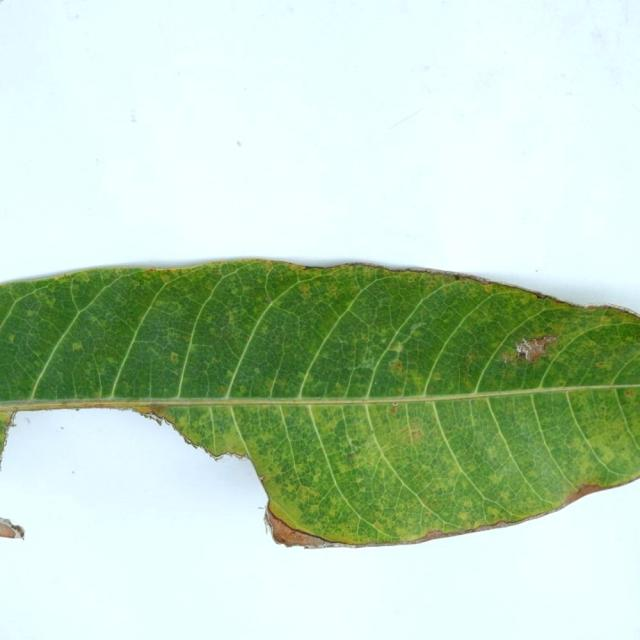Mango: (0, 259, 639, 546)
Powdery_Mildew: (0, 296, 50, 349), (508, 334, 557, 364), (337, 363, 381, 392), (145, 299, 188, 325), (457, 345, 486, 383), (399, 422, 423, 441), (342, 438, 366, 456), (145, 403, 168, 420), (408, 321, 427, 336), (297, 485, 313, 500), (167, 329, 186, 341), (71, 338, 84, 355), (299, 372, 313, 387), (148, 413, 164, 425), (390, 360, 404, 373), (500, 352, 515, 364), (156, 272, 173, 282), (490, 471, 504, 483), (49, 272, 70, 280), (388, 342, 403, 353), (372, 519, 385, 531), (297, 283, 311, 294), (75, 273, 90, 283), (264, 379, 276, 391), (600, 315, 615, 324), (251, 367, 263, 378), (457, 511, 470, 521), (487, 508, 500, 518), (481, 283, 494, 293), (226, 368, 236, 380), (312, 470, 322, 481), (170, 351, 179, 363), (462, 500, 474, 509), (44, 298, 54, 308), (237, 385, 247, 394), (466, 353, 476, 362), (328, 288, 338, 297), (26, 309, 37, 317), (227, 312, 235, 323), (624, 336, 635, 344), (57, 400, 71, 406), (106, 356, 116, 364), (432, 373, 442, 381), (625, 389, 635, 397), (390, 404, 398, 414), (596, 360, 607, 367), (7, 334, 15, 343), (334, 381, 342, 389), (260, 326, 268, 334), (215, 268, 223, 276), (355, 476, 364, 483), (98, 366, 105, 374), (348, 452, 356, 459), (359, 486, 366, 494), (556, 381, 565, 387), (374, 511, 381, 518), (503, 372, 510, 379), (218, 386, 226, 392), (214, 455, 222, 461), (9, 421, 17, 427), (262, 295, 269, 301), (391, 402, 398, 407), (258, 476, 264, 481), (121, 378, 126, 383), (470, 399, 475, 404), (60, 426, 64, 430)
